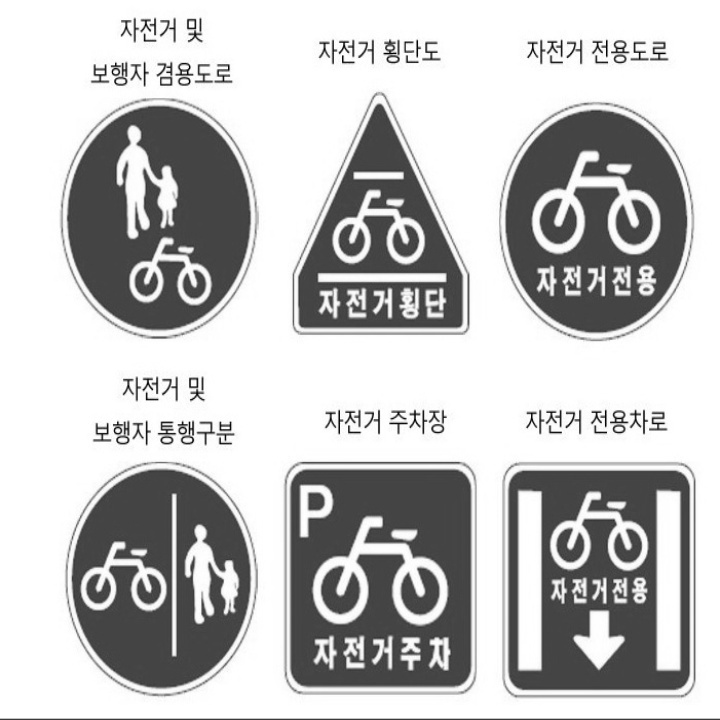bicycle: (523, 127, 673, 277), (309, 501, 459, 651), (539, 477, 657, 595), (319, 169, 431, 281), (121, 223, 227, 329), (69, 523, 173, 627)
